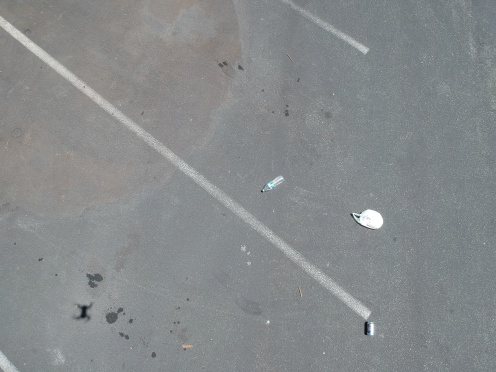bottle: (258, 173, 287, 195)
can: (360, 318, 379, 339)
plastic bag: (350, 205, 388, 231)
